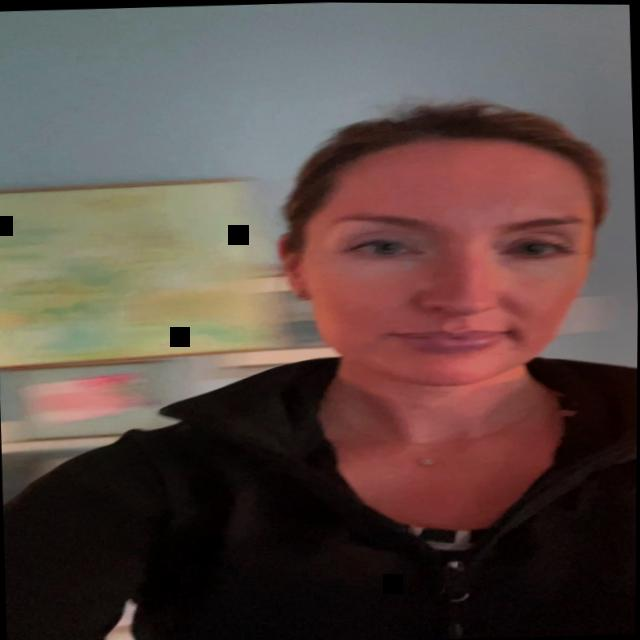NO-Mask: (271, 116, 613, 428)
